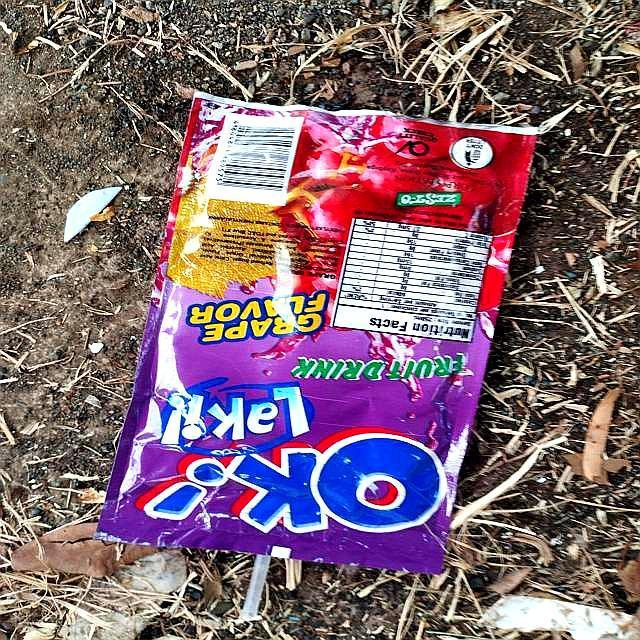Non-biodegradable: (94, 91, 540, 575)
